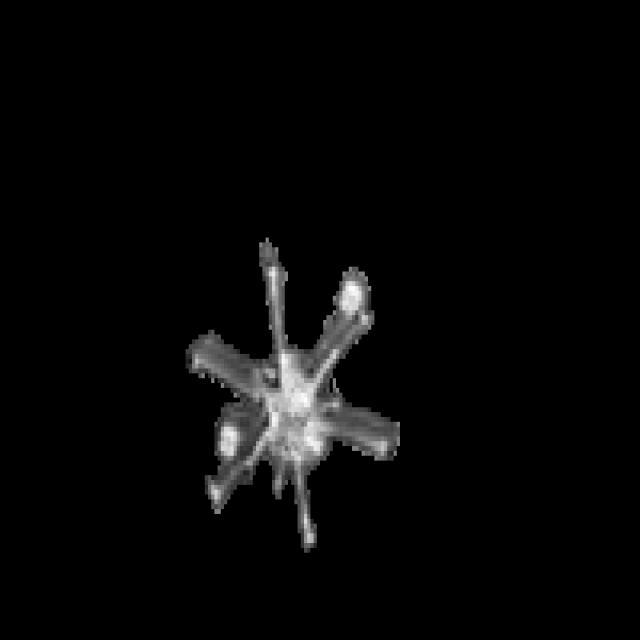drone: (185, 246, 400, 554)
